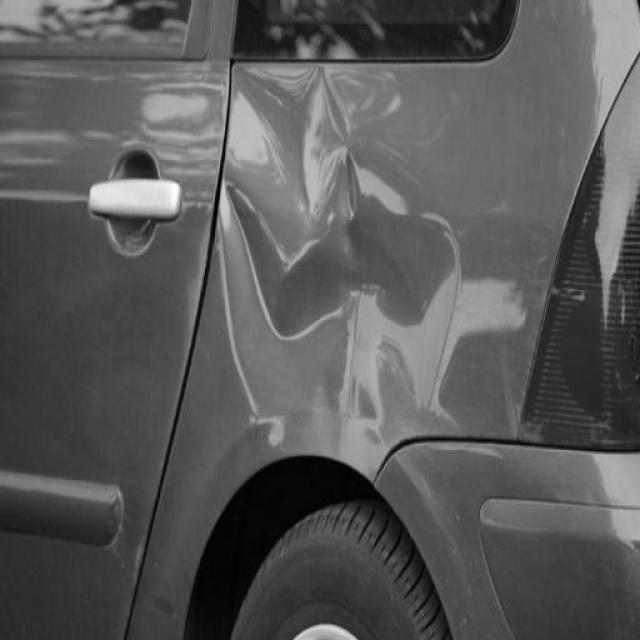dent: (216, 60, 466, 485)
